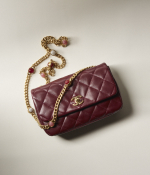channel: (31, 67, 137, 133), (86, 76, 113, 103), (68, 93, 86, 110)
